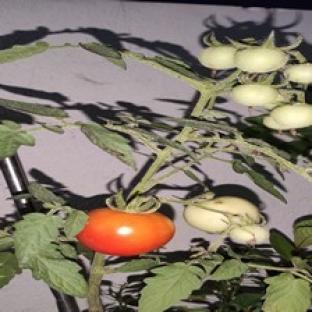Tomato: (77, 208, 175, 256), (184, 197, 261, 233), (234, 46, 288, 73), (265, 104, 311, 129), (232, 84, 278, 107), (200, 45, 236, 69), (229, 225, 268, 245), (285, 63, 311, 84)
